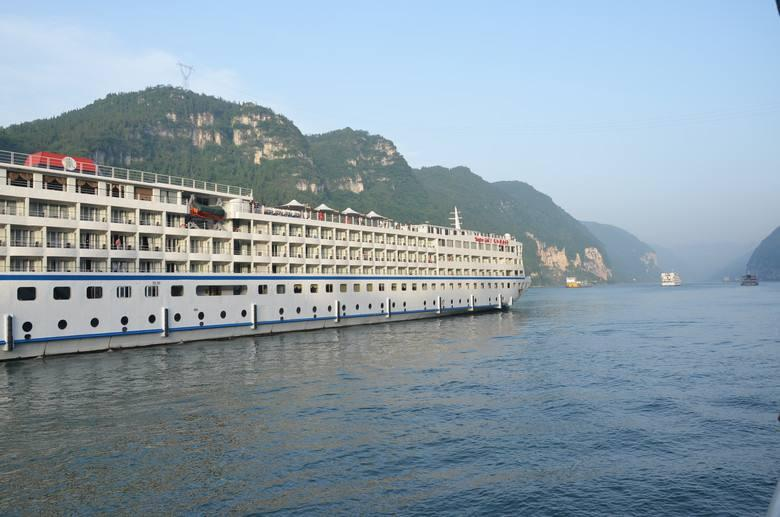youlun: (2, 151, 524, 362), (659, 271, 682, 290)
